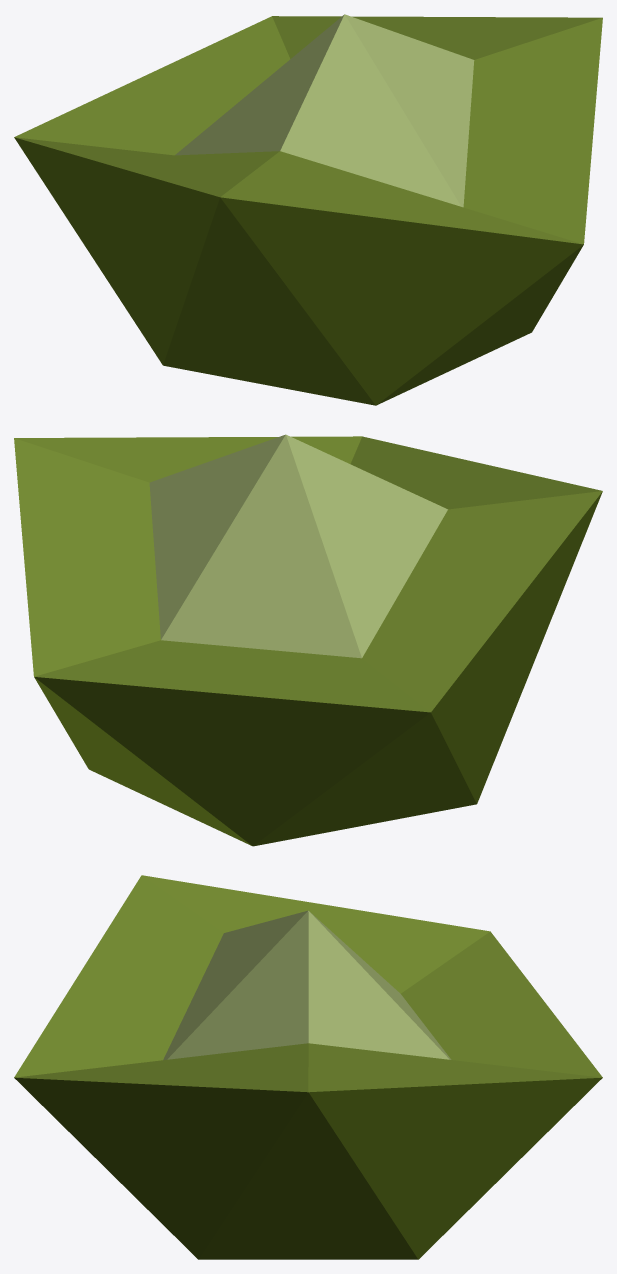
File: TB_D_Env_GrassB_A.FBX
The picture shows the model from 3 angles, top to bottom: view 1: azimuth 30°, elevation 25°; view 2: azimuth 150°, elevation 25°; view 3: azimuth 270°, elevation 25°; orthographic projection. The views are drawn at different scales.
Parts seen in each view (by area): view 1: TB_D_Env_GrassB_A; view 2: TB_D_Env_GrassB_A; view 3: TB_D_Env_GrassB_A.
Boxes of the visible parts, x1=… form: TB_D_Env_GrassB_A: x1=14, y1=14, x2=602, y2=405; TB_D_Env_GrassB_A: x1=14, y1=434, x2=602, y2=846; TB_D_Env_GrassB_A: x1=14, y1=875, x2=602, y2=1259.
Size of the model in its own units: 1.26 by 0.7536 by 1.39.
